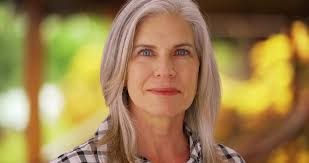white_female: (129, 11, 204, 125)
